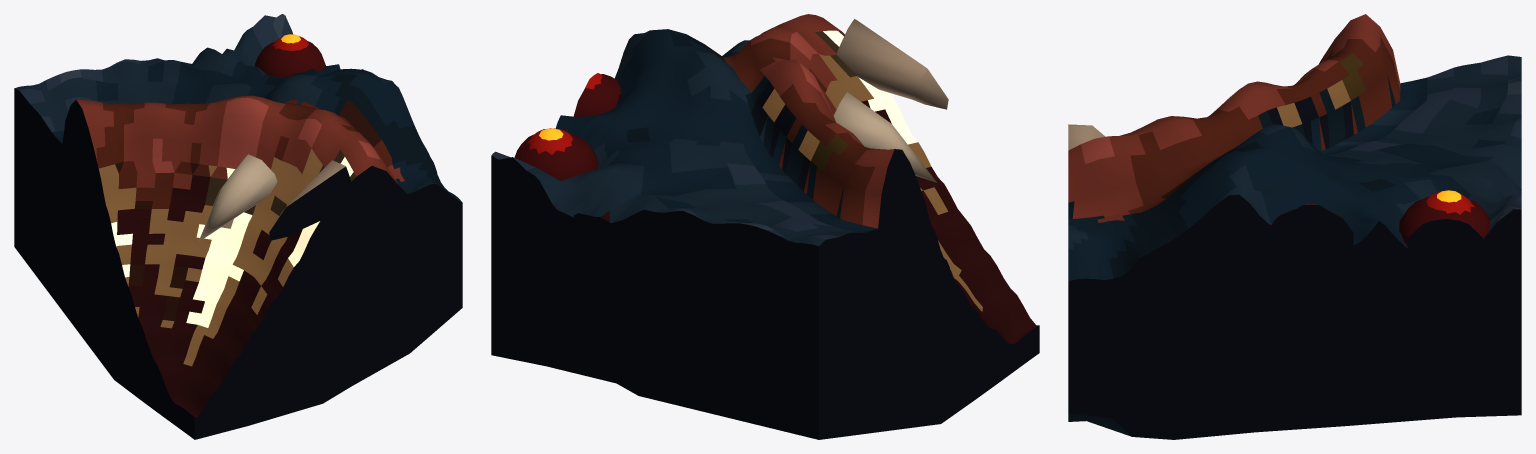
The model's file is newshn-121.glb.
3 views of the same model, side by side, from view 1: azimuth 30°, elevation 25°; view 2: azimuth 150°, elevation 25°; view 3: azimuth 270°, elevation 25° (orthographic). The views are drawn at different scales.
Parts seen in each view (by area): view 1: newshn-121, newshn-121-f121, newshn-121-f231; view 2: newshn-121, newshn-121-f121; view 3: newshn-121, newshn-121-f121.
Boxes of the visible parts, x1,y1,x2,y2 form: newshn-121: (14,14,462,439); newshn-121-f121: (198,154,356,241); newshn-121-f231: (272,167,355,238); newshn-121: (491,14,1039,439); newshn-121-f121: (833,19,948,182); newshn-121: (1068,14,1521,439); newshn-121-f121: (1068,124,1104,150).
Bounding box in the file's own units: 2 × 1.85 × 2.33.
